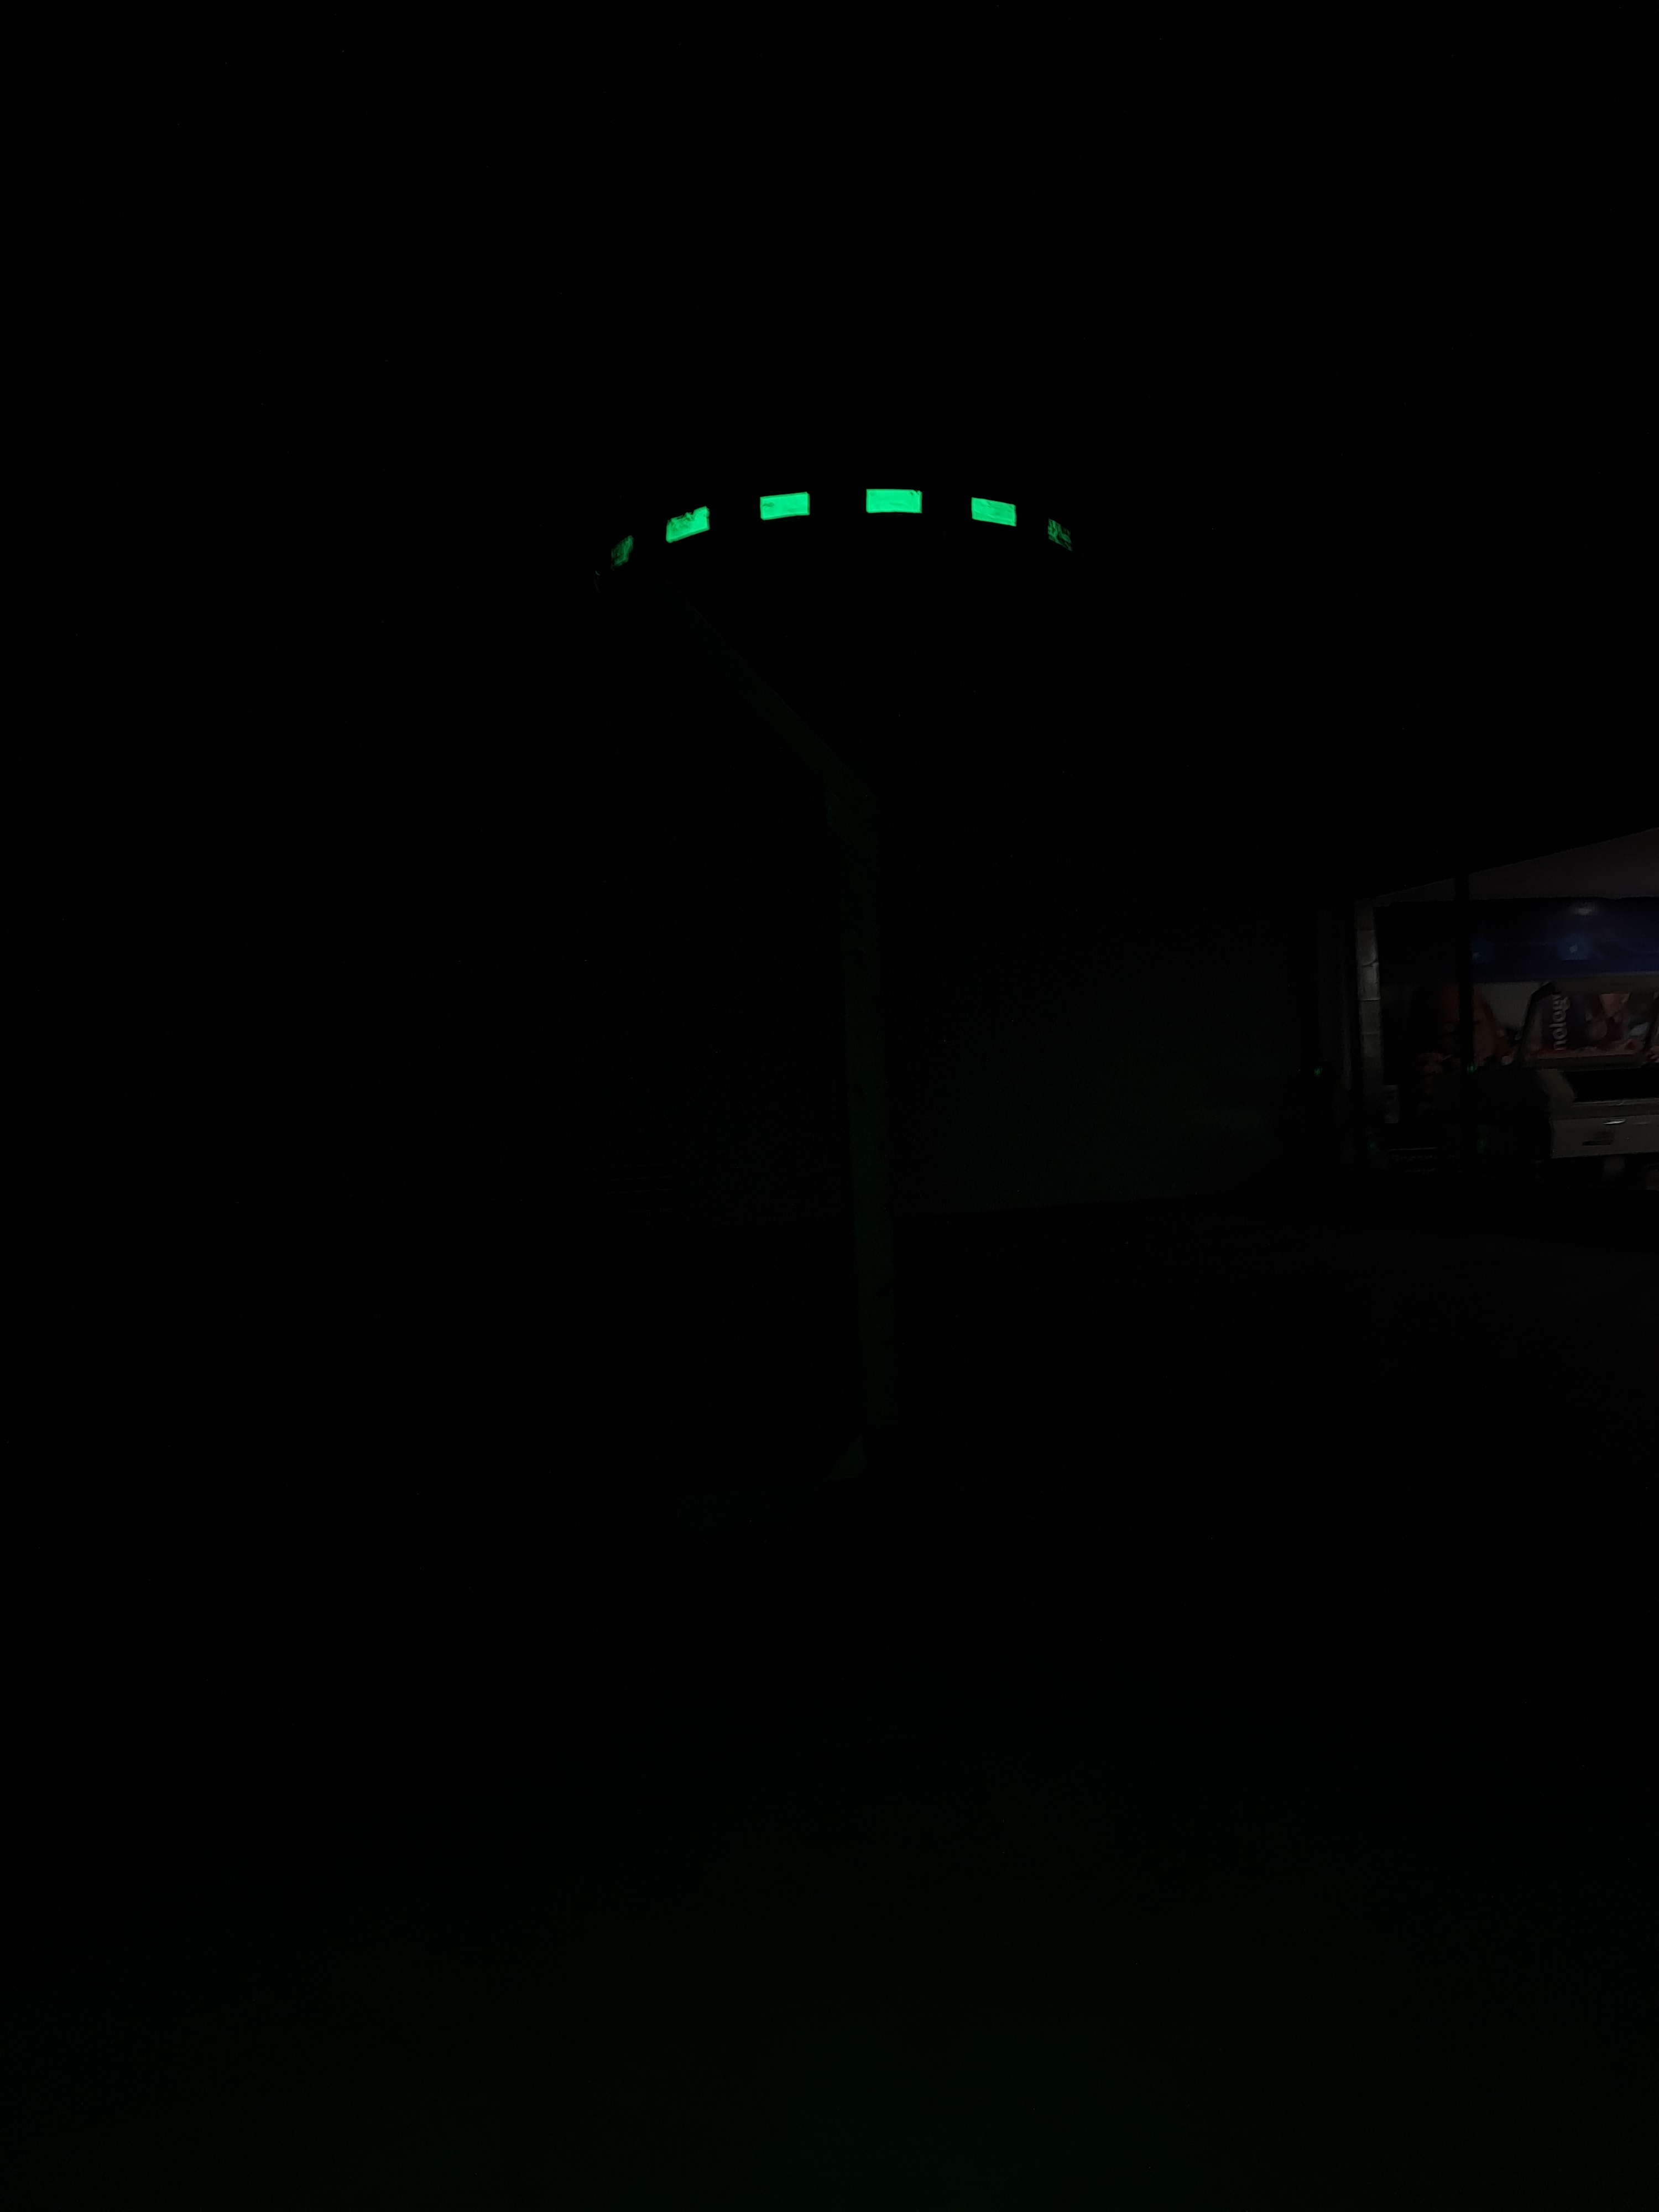hoop: (579, 460, 1101, 577)
